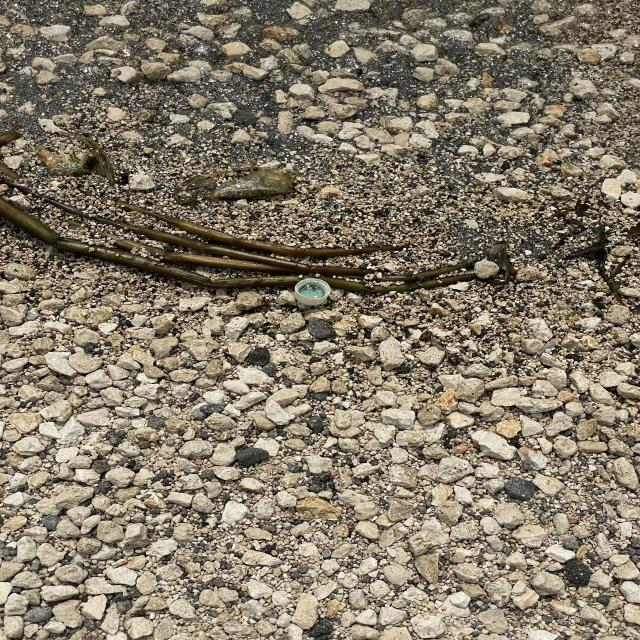plastic_waste: (297, 278, 335, 306)
